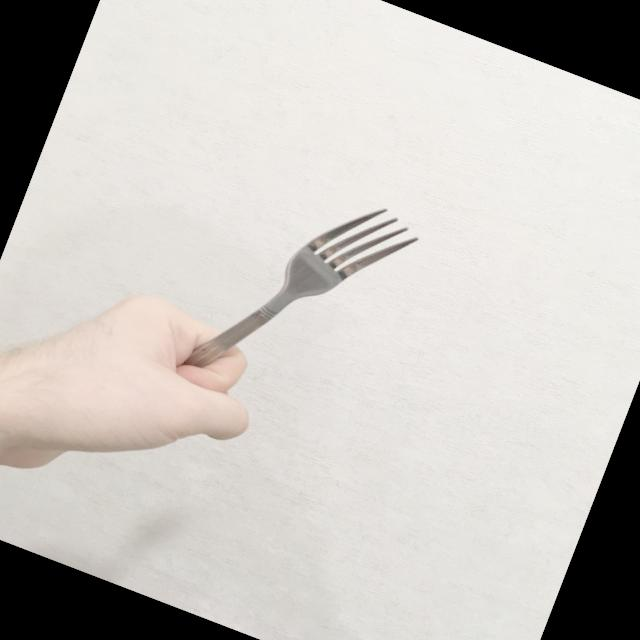fork: (142, 146, 431, 450)
